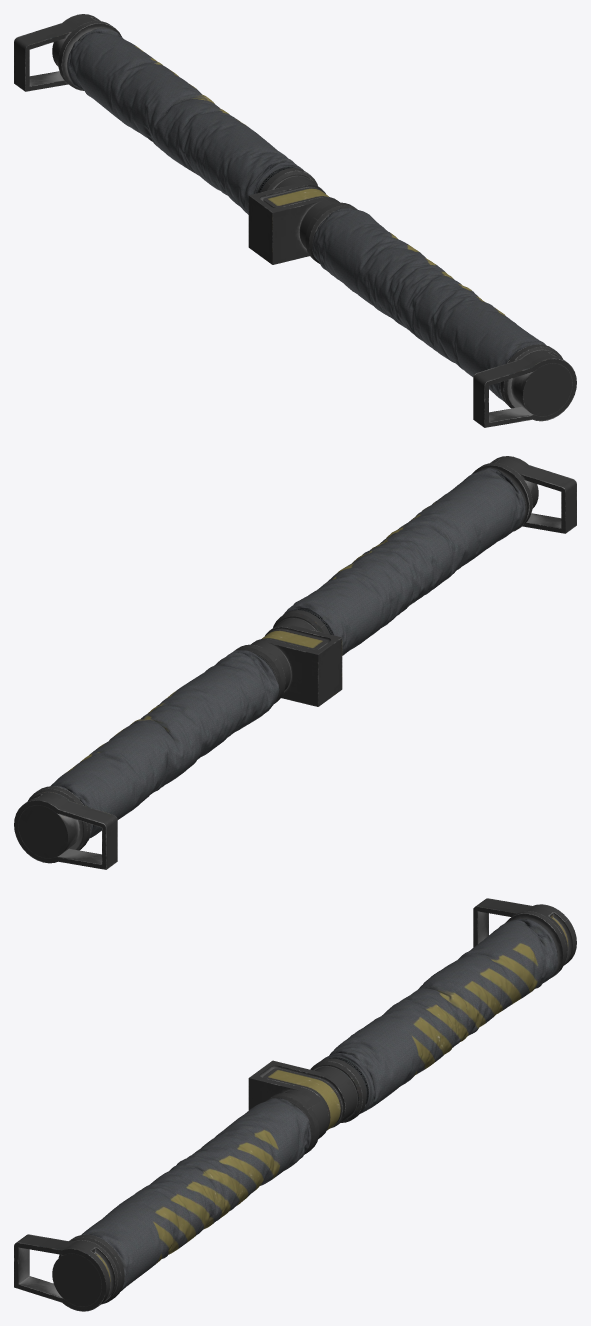
The model's file is cy006-opt.glb.
3 views of the same model, one above another, from view 1: azimuth 30°, elevation 25°; view 2: azimuth 150°, elevation 25°; view 3: azimuth 330°, elevation 25° (orthographic).
Parts seen in each view (by area): view 1: Cylinder.006; view 2: Cylinder.006; view 3: Cylinder.006.
Part boxes in pixels (left/top/right/bottom): Cylinder.006: left=14, top=14, right=576, bottom=427; Cylinder.006: left=14, top=456, right=576, bottom=869; Cylinder.006: left=14, top=898, right=576, bottom=1311.
Bounding box in the file's own units: 0.5993 × 0.3998 × 5.16.
Materials: 1 (1 with a texture image).
